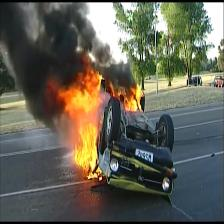fire: (44, 42, 151, 195)
smoke: (3, 0, 66, 135), (65, 4, 160, 82)
